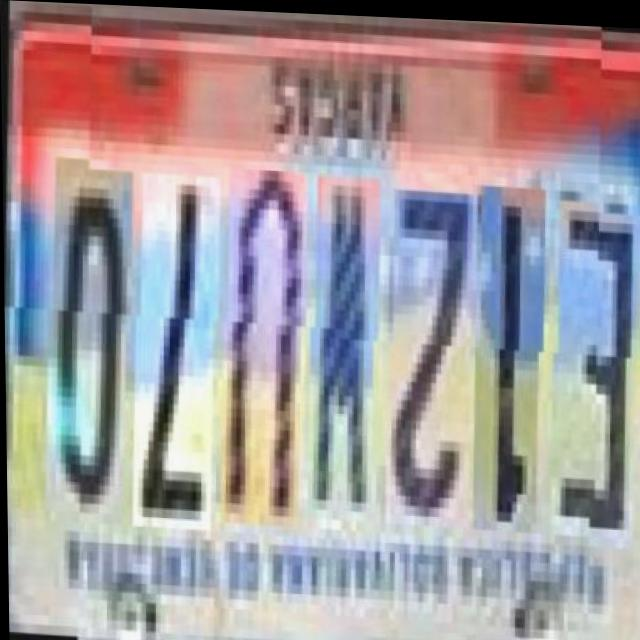1: (466, 181, 540, 530)
2: (379, 186, 473, 526)
7: (126, 172, 217, 531)
e: (544, 194, 638, 534)
o: (39, 169, 129, 528)
u: (213, 167, 304, 526)
w: (301, 172, 375, 520)
